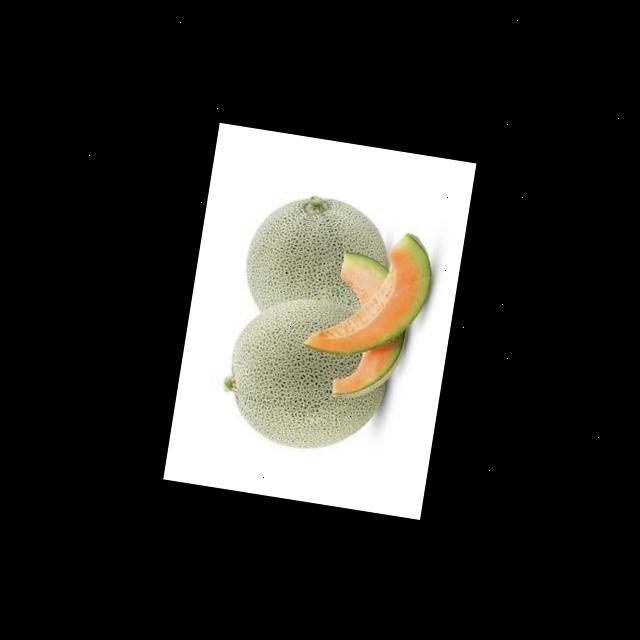Hami Melon: (214, 286, 398, 458), (239, 186, 394, 324), (302, 218, 439, 366)
